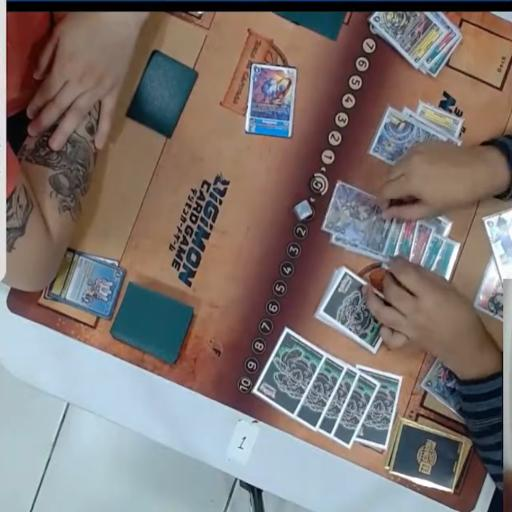card: (367, 0, 443, 69), (46, 250, 126, 314), (319, 181, 390, 250), (368, 114, 446, 169), (244, 67, 298, 137), (424, 29, 472, 72), (378, 204, 406, 264), (406, 212, 434, 272), (419, 102, 466, 135), (430, 238, 460, 289), (418, 229, 445, 282), (395, 208, 416, 270), (420, 206, 456, 236)
